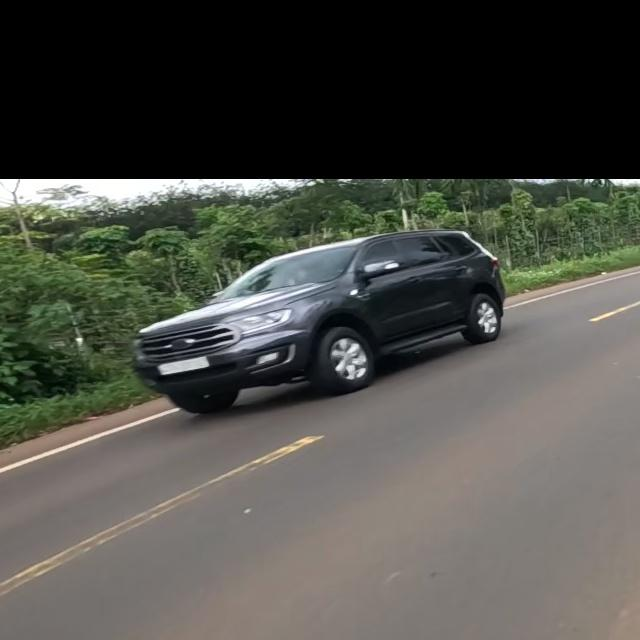license-plate: (157, 357, 209, 374)
